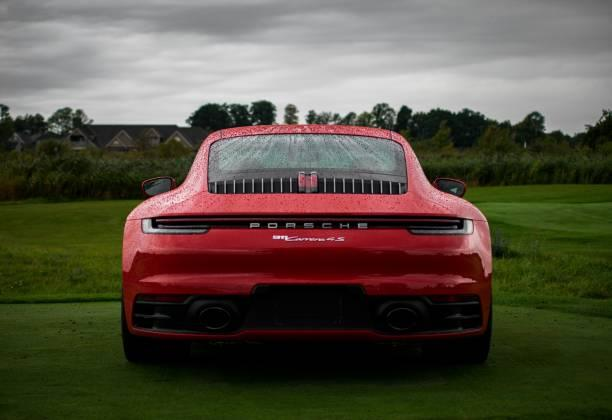porsche: (246, 216, 378, 235)
